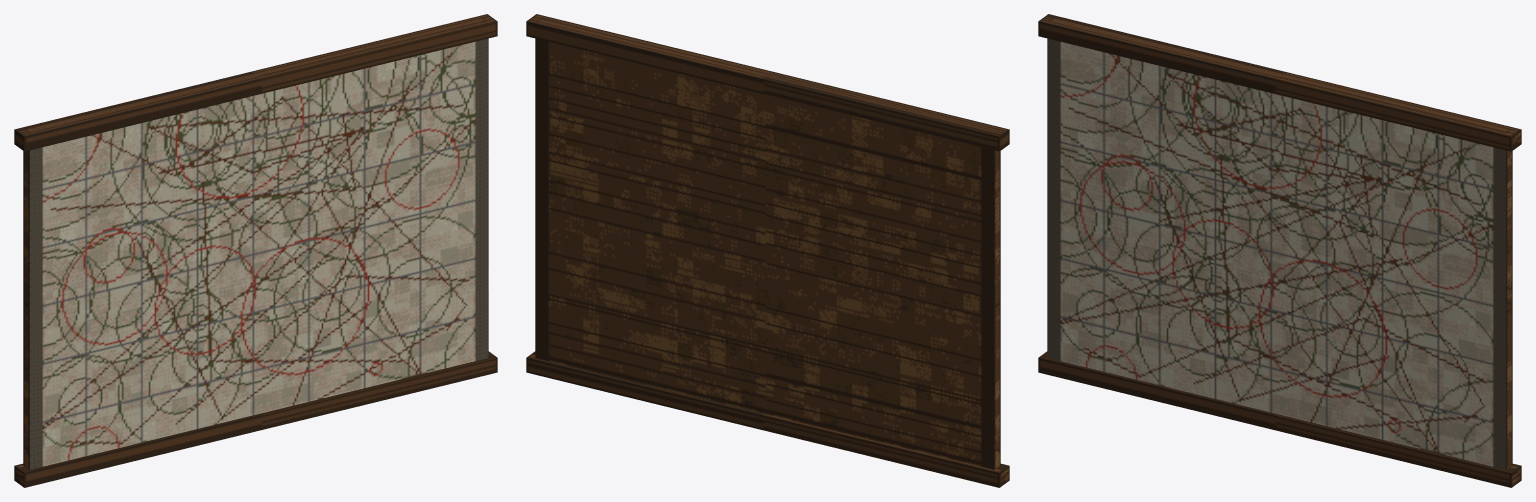
The model's file is SM_Map_Wall_01.fbx.
3 views of the same model, side by side, from view 1: azimuth 30°, elevation 25°; view 2: azimuth 150°, elevation 25°; view 3: azimuth 330°, elevation 25° (orthographic).
Parts seen in each view (by area): view 1: SM_Map_Wall_01; view 2: SM_Map_Wall_01; view 3: SM_Map_Wall_01.
Part boxes in pixels (box(x1,y1,x2,y2)): SM_Map_Wall_01: box(14, 14, 497, 487); SM_Map_Wall_01: box(526, 14, 1009, 487); SM_Map_Wall_01: box(1038, 14, 1521, 487).
Size of the model in its own units: 1.34 by 0.95 by 0.05.
Materials: 1 (1 with a texture image).
